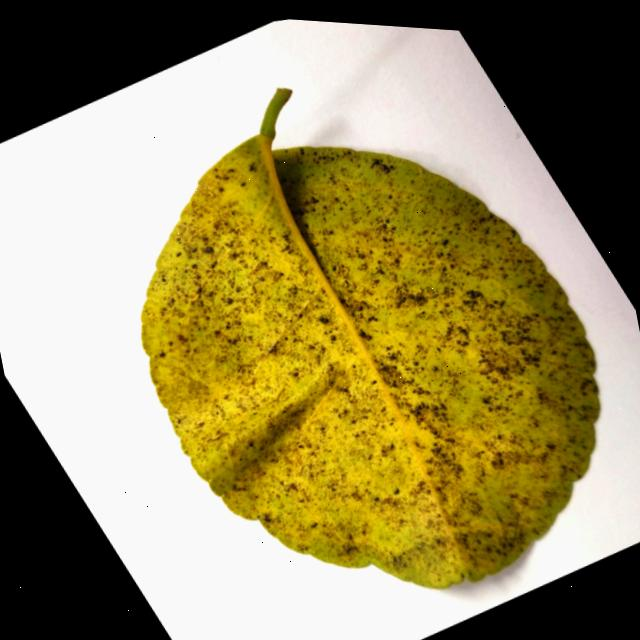melanose: (142, 89, 600, 588)
